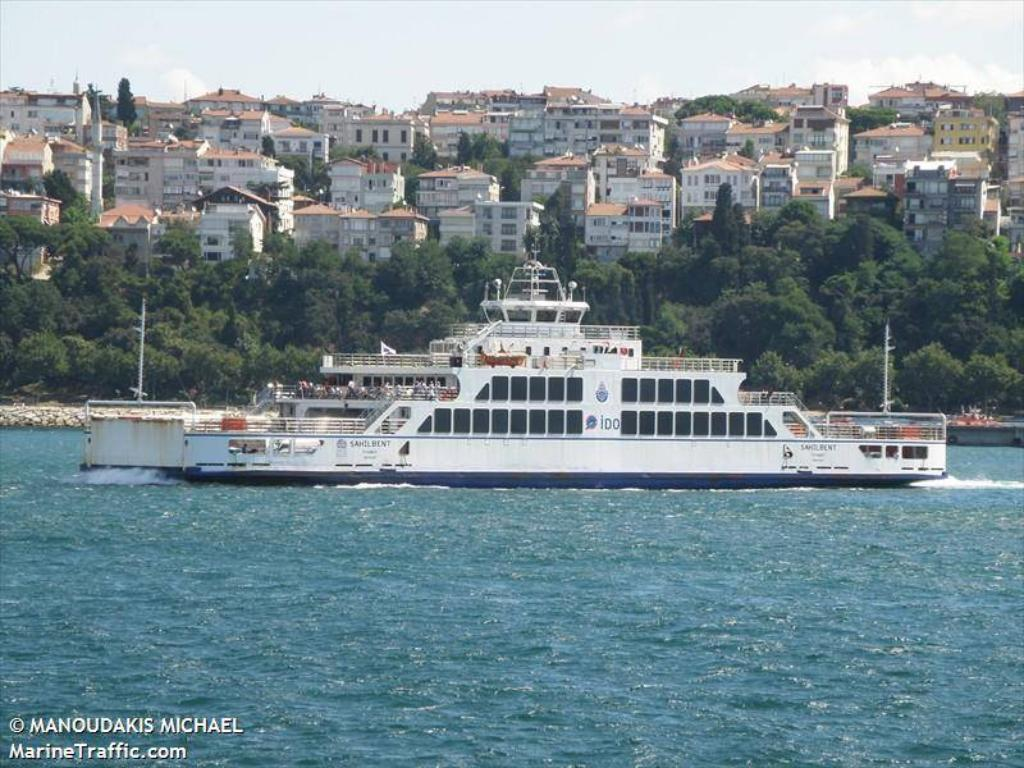PassengerShip: (78, 251, 952, 493)
